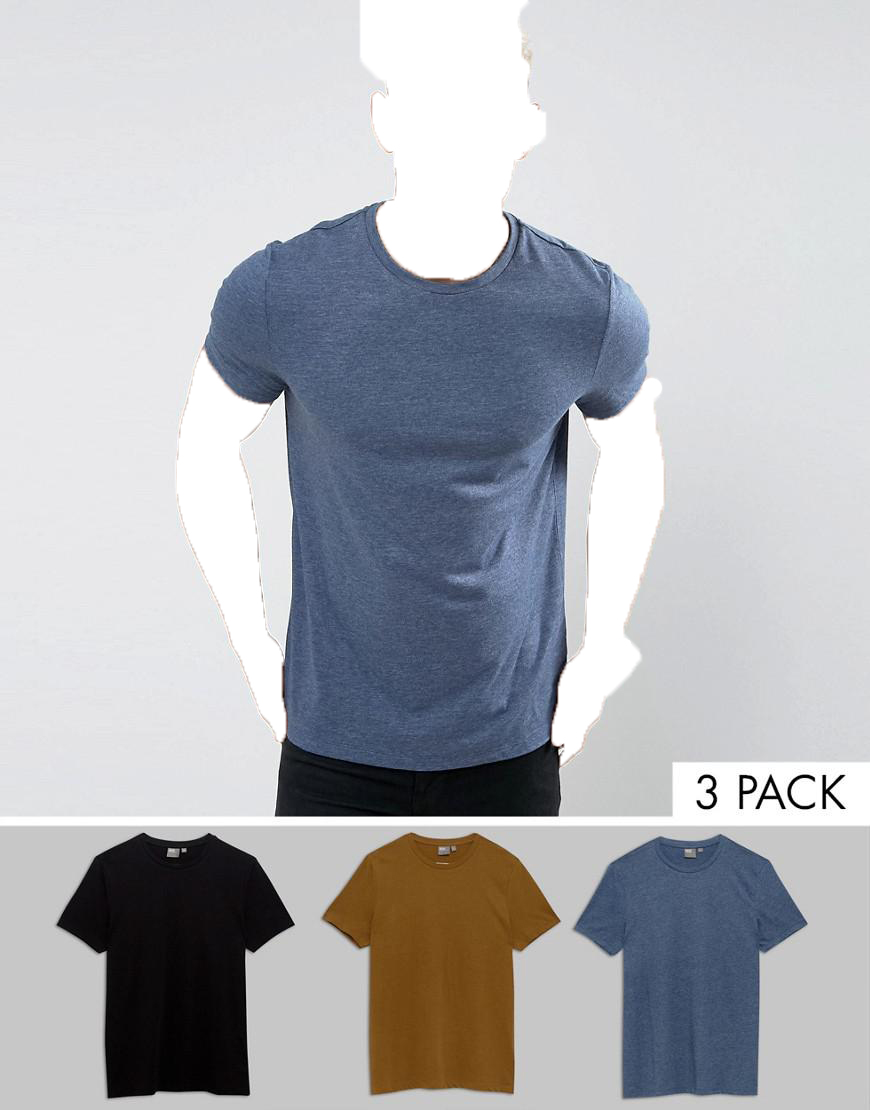teeshirt: (191, 200, 652, 762), (34, 830, 302, 1110), (313, 830, 579, 1107), (578, 834, 809, 1110)
